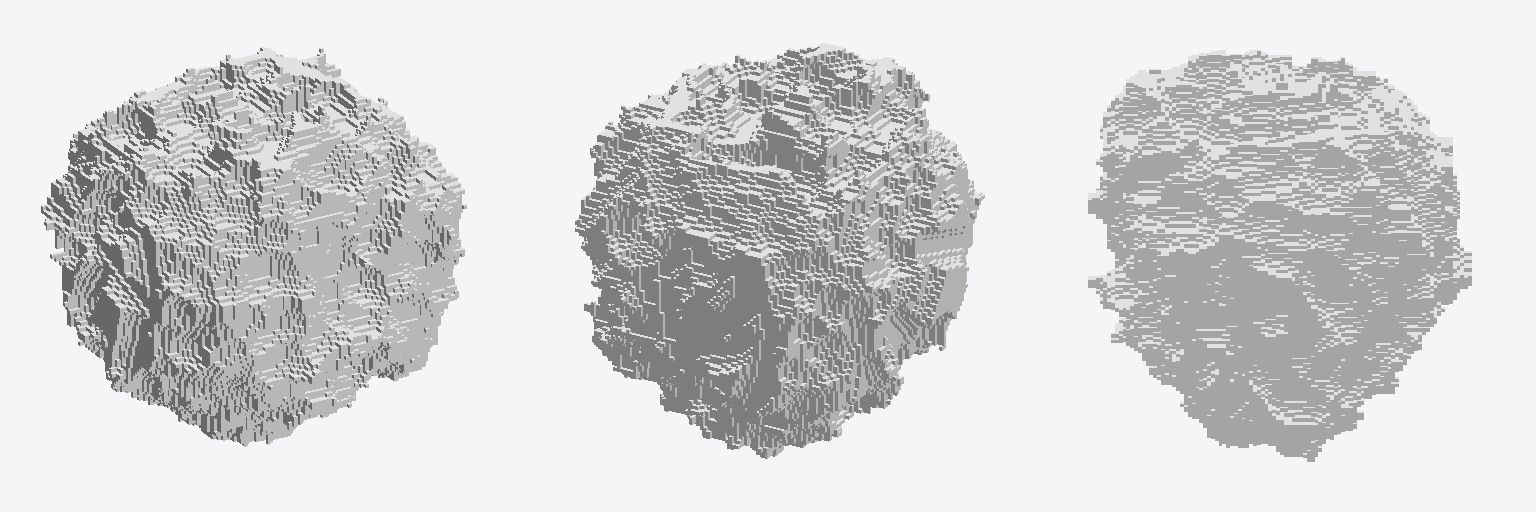
File: Asteroid.obj
3 views of the same model, side by side, from view 1: azimuth 30°, elevation 25°; view 2: azimuth 150°, elevation 25°; view 3: azimuth 270°, elevation 25° (orthographic).
Parts seen in each view (by area): view 1: Asteriod; view 2: Asteriod; view 3: Asteriod.
Boxes of the visible parts, box(x1,y1,x2,y2) form: Asteriod: box(41, 47, 466, 446); Asteriod: box(575, 43, 984, 458); Asteriod: box(1088, 50, 1471, 461).
Size of the model in its own units: 100 by 98 by 100.